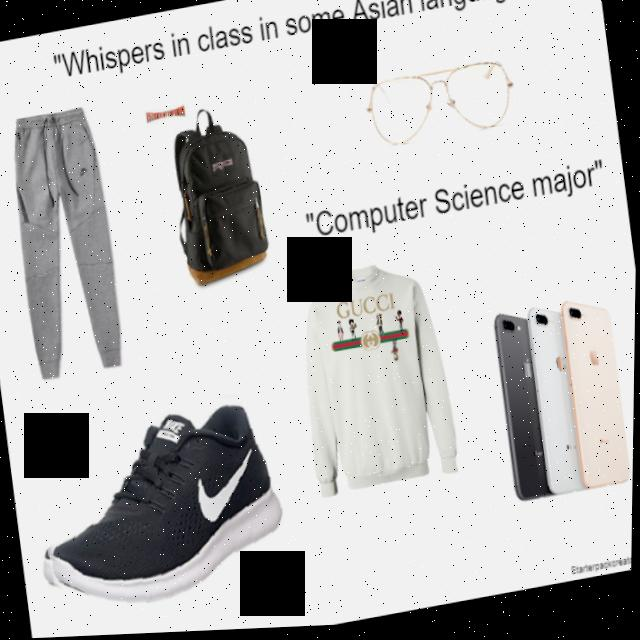shoe: (21, 371, 311, 637)
